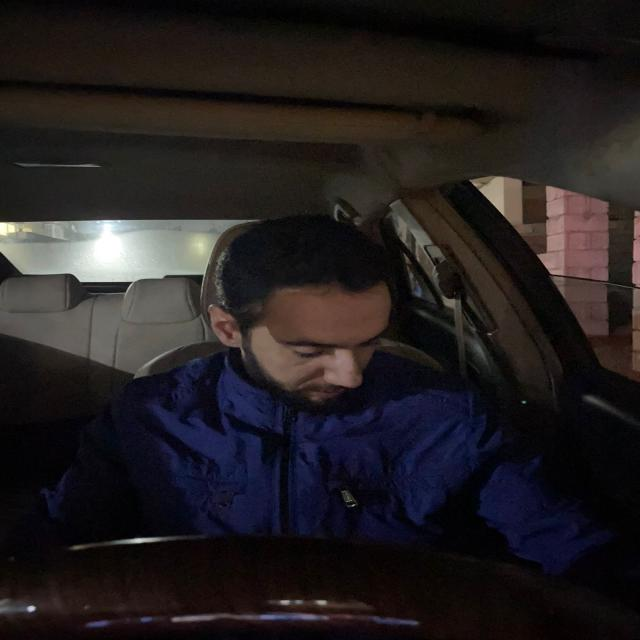drowsy: (219, 230, 395, 414)
